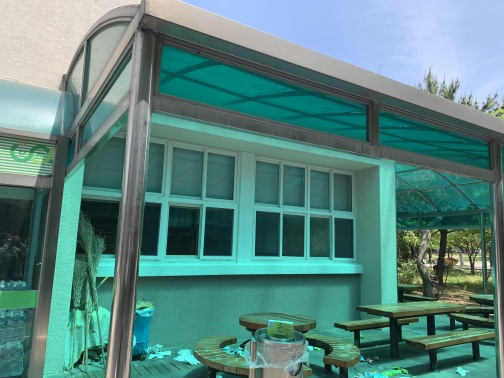Ara Hall: (6, 85, 495, 364), (203, 270, 493, 375)
